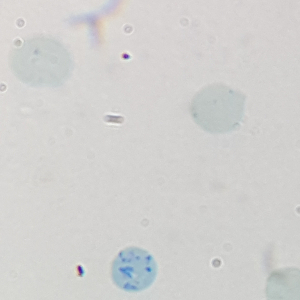aggregate reticulocyte: (108, 245, 160, 293)
punctate reticulocyte: (9, 36, 77, 91), (189, 81, 247, 135)
